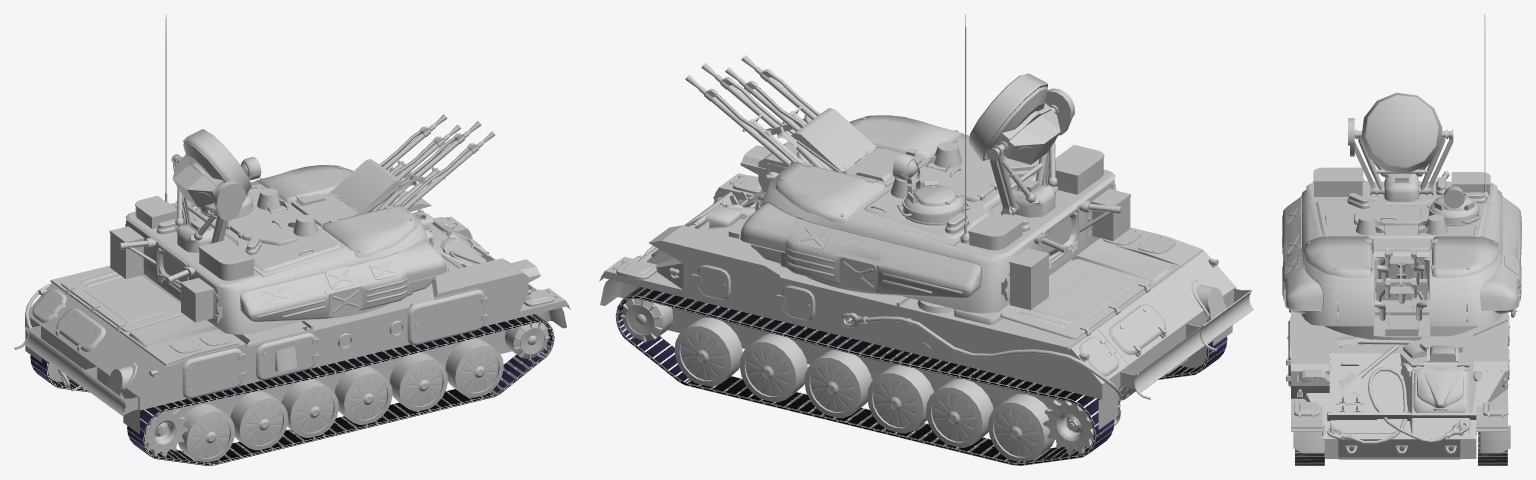
File: ZSU-23-4 Shilka_new.fbx
3 renders of one model, left to right at view 1: azimuth 30°, elevation 25°; view 2: azimuth 150°, elevation 25°; view 3: azimuth 270°, elevation 25°, orthographic. The views are drawn at different scales.
Visible parts, largest first — view 1: Shilka_01, Shilka_02, Shilka_Track_01, Gun, Shilka_Radar, Object001_Elements038, Object001_Elements037, Object001_Elements034, Object001_Elements036, Object001_Elements035, Object001_Elements28, Object001_Elements23 (+1 smaller); view 2: Shilka_01, Shilka_02, Shilka_Track_01, Gun, Shilka_Radar, Object001_Elements033, Object001_Elements032, Object001_Elements029, Object001_Elements031, Object001_Elements030, Object001_Elements8, Object001_Elements3 (+1 smaller); view 3: Shilka_02, Shilka_01, Shilka_Radar, Gun, Shilka_Track_01.
Boxes of the visible parts, <box> form: Shilka_01: <box>14,191,570,434</box>; Shilka_02: <box>109,14,448,334</box>; Shilka_Track_01: <box>30,314,554,465</box>; Gun: <box>330,114,495,219</box>; Shilka_Radar: <box>172,129,251,207</box>; Object001_Elements038: <box>445,338,503,397</box>; Object001_Elements037: <box>389,352,447,411</box>; Object001_Elements034: <box>230,391,288,450</box>; Object001_Elements036: <box>334,366,392,424</box>; Object001_Elements035: <box>281,379,338,437</box>; Object001_Elements28: <box>178,404,235,462</box>; Object001_Elements23: <box>145,409,187,456</box>; Shilka_01: <box>599,142,1253,429</box>; Shilka_02: <box>738,14,1130,313</box>; Shilka_Track_01: <box>615,287,1227,465</box>; Gun: <box>685,55,876,177</box>; Shilka_Radar: <box>969,73,1060,164</box>; Object001_Elements033: <box>674,317,742,386</box>; Object001_Elements032: <box>739,333,807,402</box>; Object001_Elements029: <box>926,379,993,447</box>; Object001_Elements031: <box>804,349,871,418</box>; Object001_Elements030: <box>867,364,933,433</box>; Object001_Elements8: <box>988,394,1054,461</box>; Object001_Elements3: <box>1043,400,1093,454</box>; Shilka_02: <box>1282,14,1521,340</box>; Shilka_01: <box>1286,286,1517,459</box>; Shilka_Radar: <box>1361,92,1442,173</box>; Gun: <box>1372,248,1430,330</box>; Shilka_Track_01: <box>1295,432,1507,465</box>.
Bounding box in the file's own units: 8.35 × 6.33 × 3.98.
